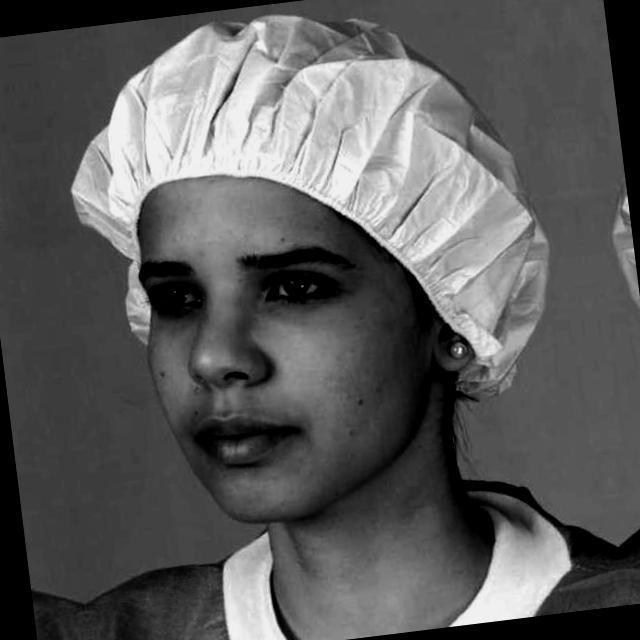gloves: (68, 23, 510, 260)
no_hairnet: (192, 349, 348, 482)
